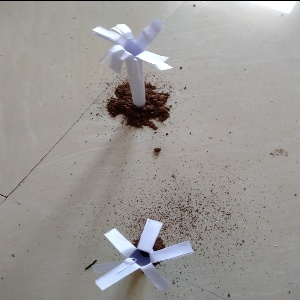weed: (85, 9, 167, 111), (97, 222, 190, 294)
